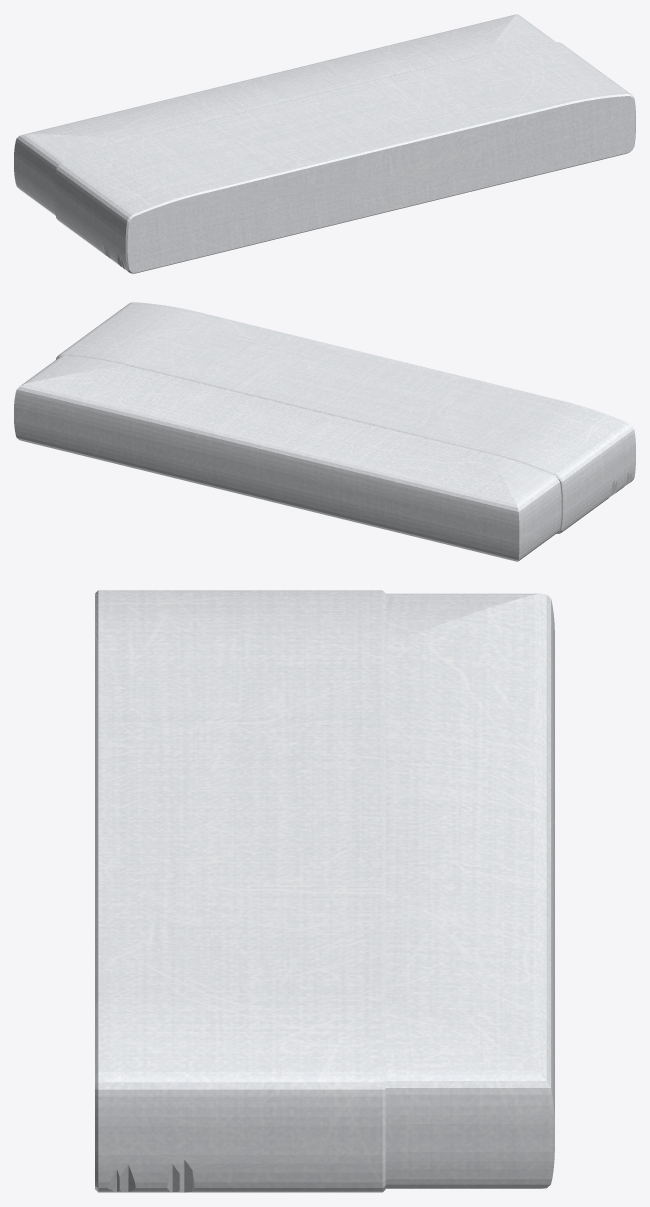
The model's file is mattress.glb.
3 views of the same model, one above another, from view 1: azimuth 30°, elevation 25°; view 2: azimuth 150°, elevation 25°; view 3: azimuth 270°, elevation 25° (orthographic). The views are drawn at different scales.
Visible parts, largest first — view 1: Mattress; view 2: Mattress; view 3: Mattress.
Boxes of the visible parts, x1,y1,x2,y2 form: Mattress: (14,14,635,273); Mattress: (14,302,635,561); Mattress: (95,590,554,1192).
Size of the model in its own units: 1.64 by 0.2012 by 0.6404.
Materials: 1 (1 with a texture image).
